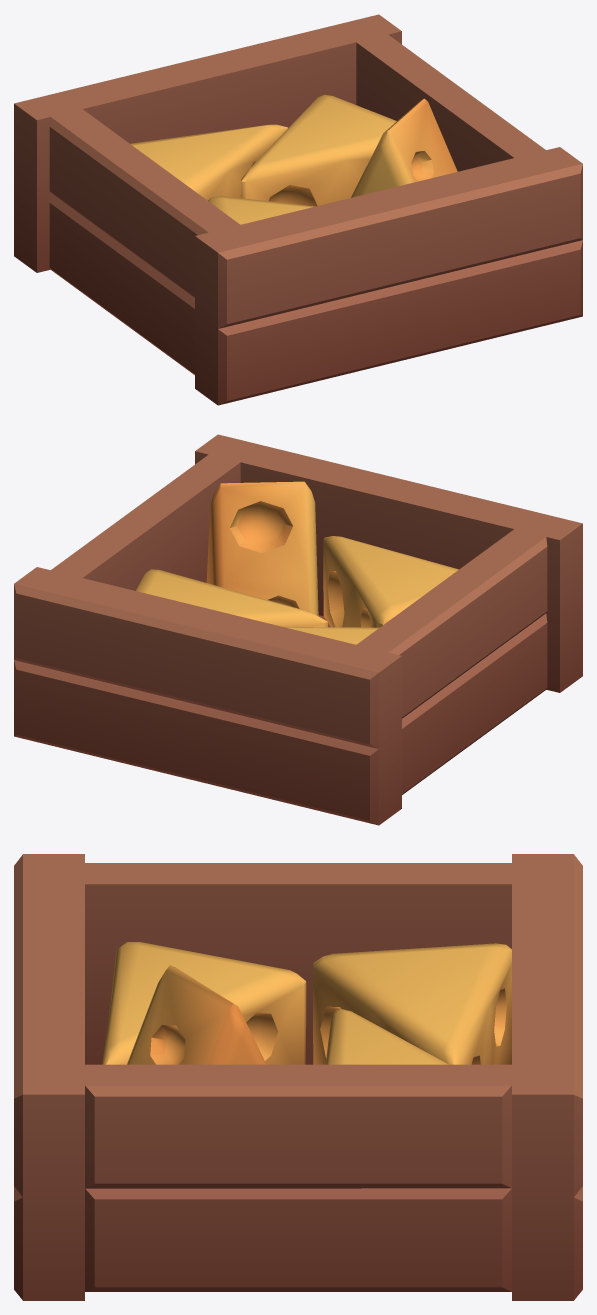
File: kay-crate_cheese.glb
The picture shows the model from 3 angles, top to bottom: view 1: azimuth 30°, elevation 25°; view 2: azimuth 150°, elevation 25°; view 3: azimuth 270°, elevation 25°; orthographic projection. The views are drawn at different scales.
Parts seen in each view (by area): view 1: crate_cheese; view 2: crate_cheese; view 3: crate_cheese.
Part boxes in pixels (<box>): crate_cheese: <box>14,14,582,405</box>; crate_cheese: <box>14,434,582,825</box>; crate_cheese: <box>14,854,582,1300</box>.
Bounding box in the file's own units: 0.6 × 0.2838 × 0.6.
Materials: 1 (1 with a texture image).
